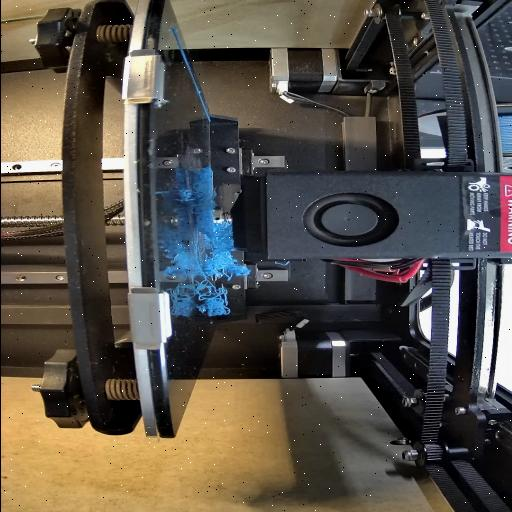spaghetti: (192, 224, 238, 314), (177, 178, 215, 216)
